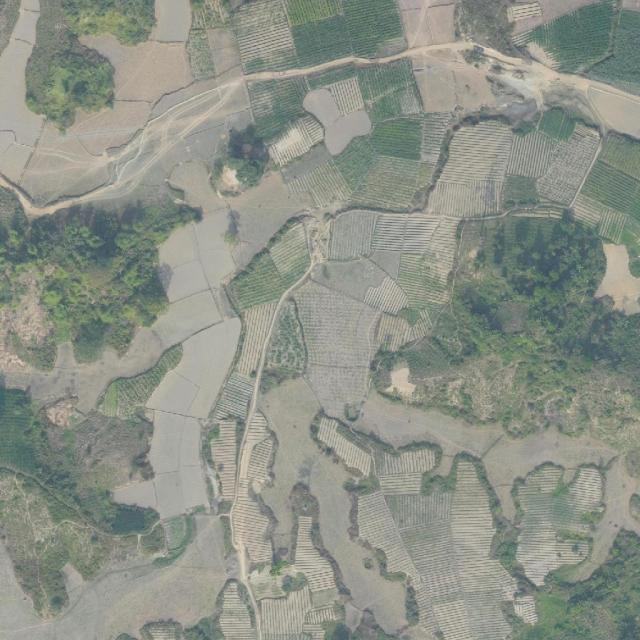agricultural_land: (435, 455, 528, 640), (222, 216, 327, 323), (516, 464, 603, 586), (280, 278, 385, 376), (91, 332, 195, 430), (427, 112, 515, 225), (532, 118, 606, 210), (394, 212, 460, 313), (515, 464, 562, 586), (349, 151, 434, 216), (277, 512, 339, 598), (310, 413, 381, 480), (247, 72, 315, 140), (356, 58, 423, 123), (340, 0, 407, 63), (286, 159, 354, 221), (327, 131, 387, 191), (290, 14, 354, 68), (565, 194, 631, 245), (235, 298, 276, 377), (375, 448, 439, 497), (230, 492, 273, 564), (211, 370, 262, 430), (259, 586, 314, 640), (359, 272, 412, 326), (508, 127, 558, 181), (371, 215, 441, 253), (329, 209, 378, 263), (367, 115, 424, 161), (375, 310, 435, 352), (412, 106, 453, 165), (598, 129, 640, 179), (211, 420, 236, 499), (305, 62, 358, 91), (371, 211, 406, 254), (594, 207, 628, 245), (379, 472, 423, 496)
dryland: (0, 0, 201, 235), (114, 300, 266, 530), (0, 512, 236, 640), (146, 286, 225, 350)
greenland: (367, 183, 640, 458), (0, 187, 201, 367)
unmetalled_road: (22, 4, 640, 219)
